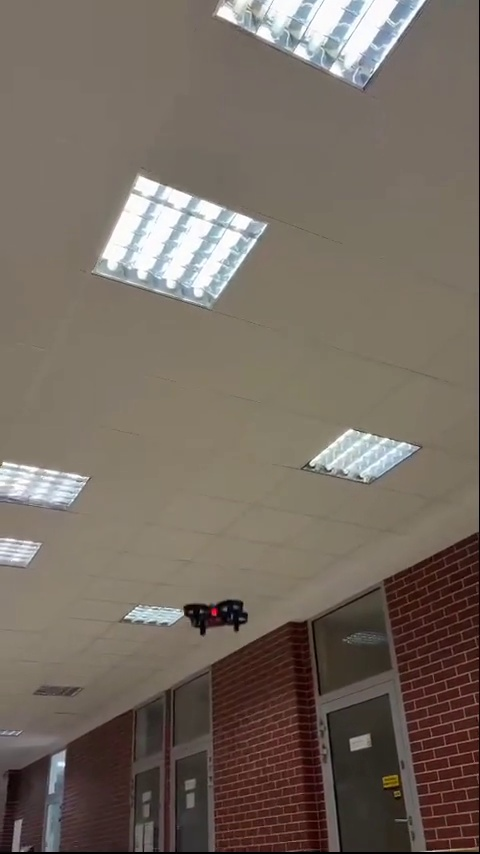drone: (182, 596, 248, 634)
